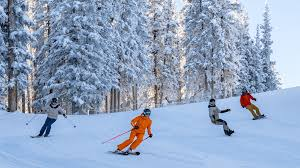snowboard: (112, 150, 142, 157), (252, 111, 268, 121), (32, 132, 54, 138), (227, 128, 237, 137)
